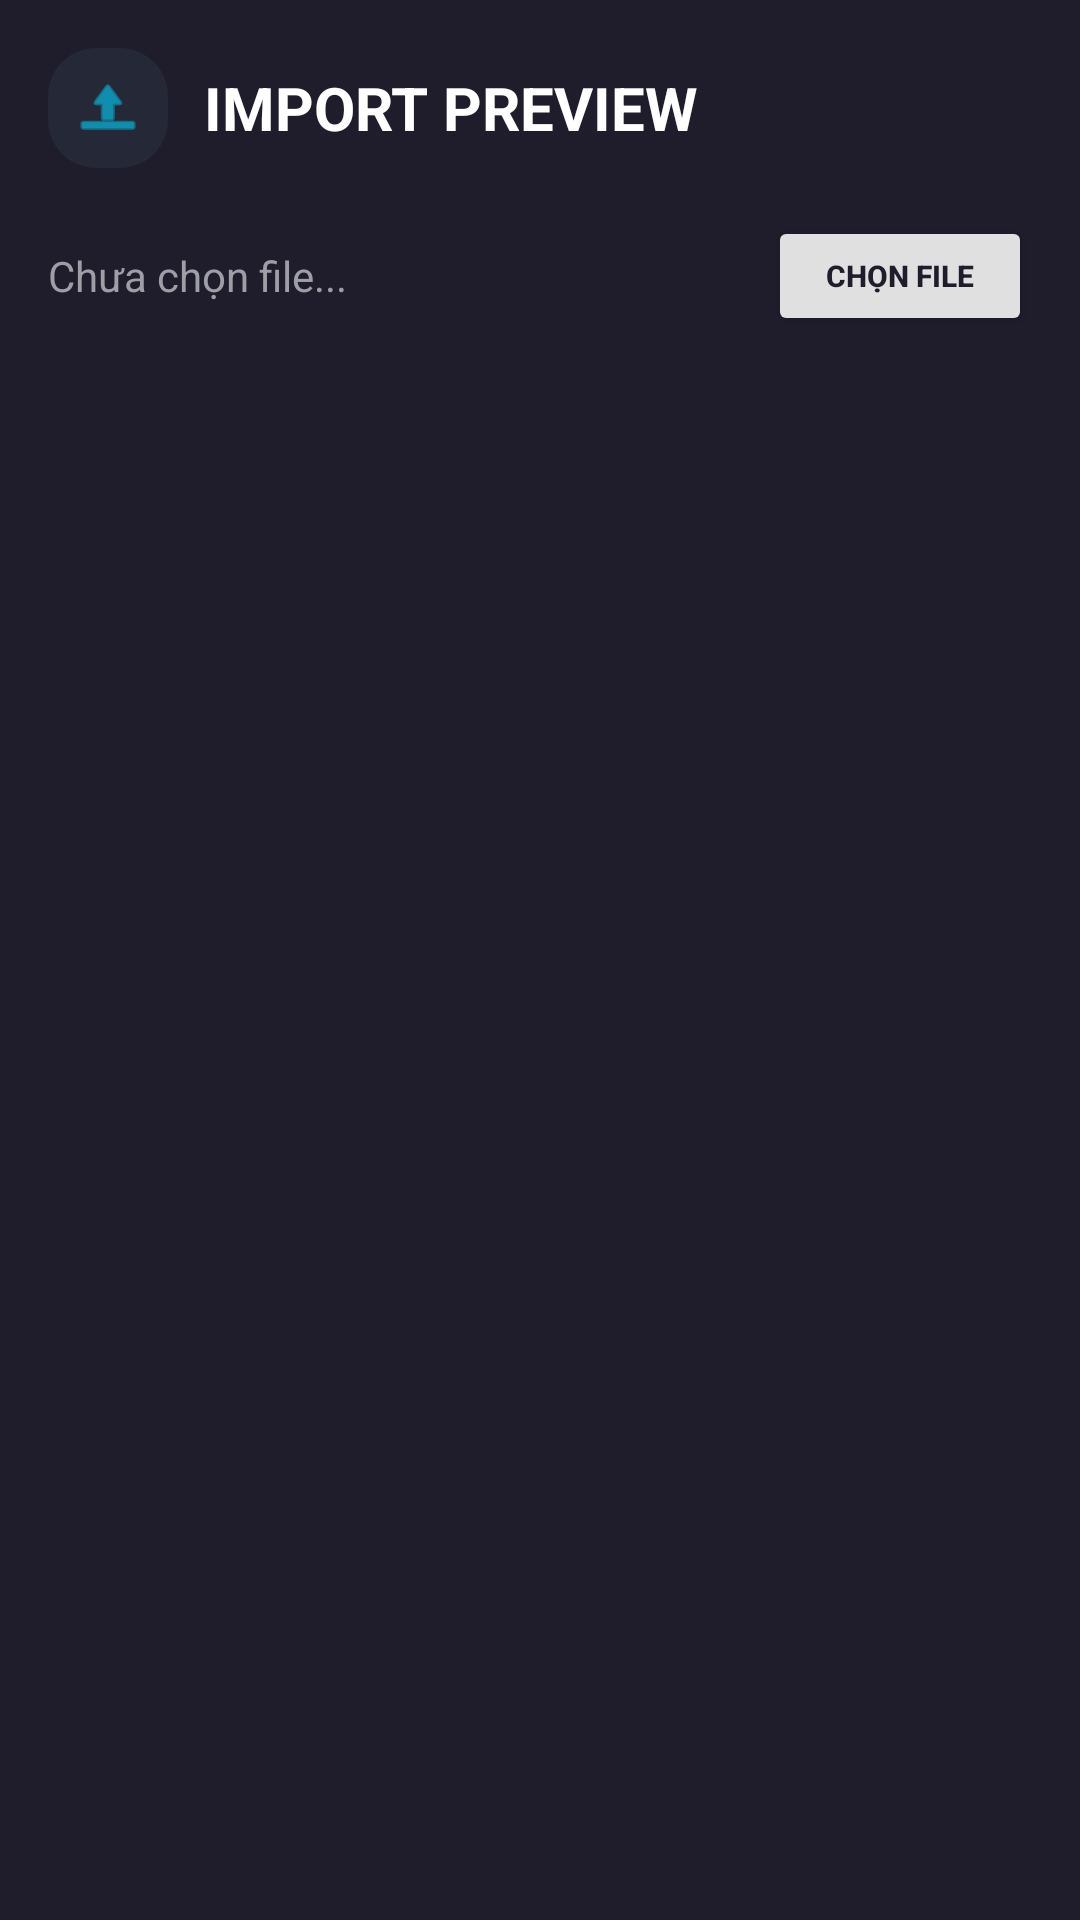

Named icons in this screenshot (1080w x 1920h) and their centers, point (x, y):
upload: point (108, 108)
